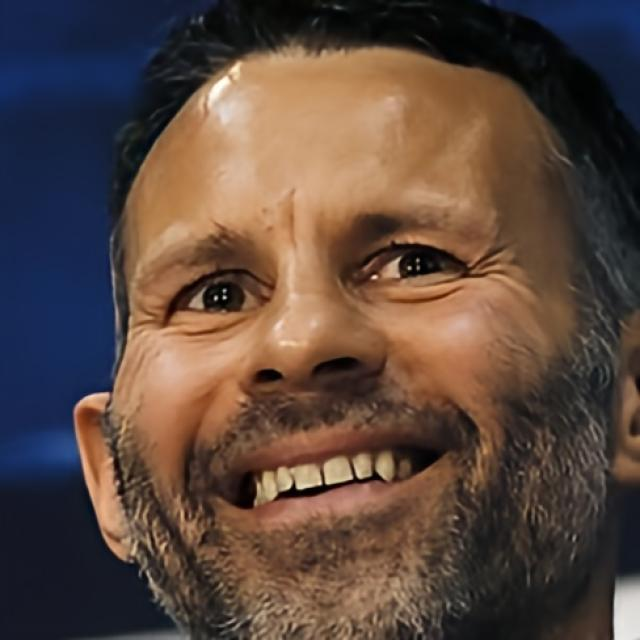happy: (106, 44, 608, 640)
